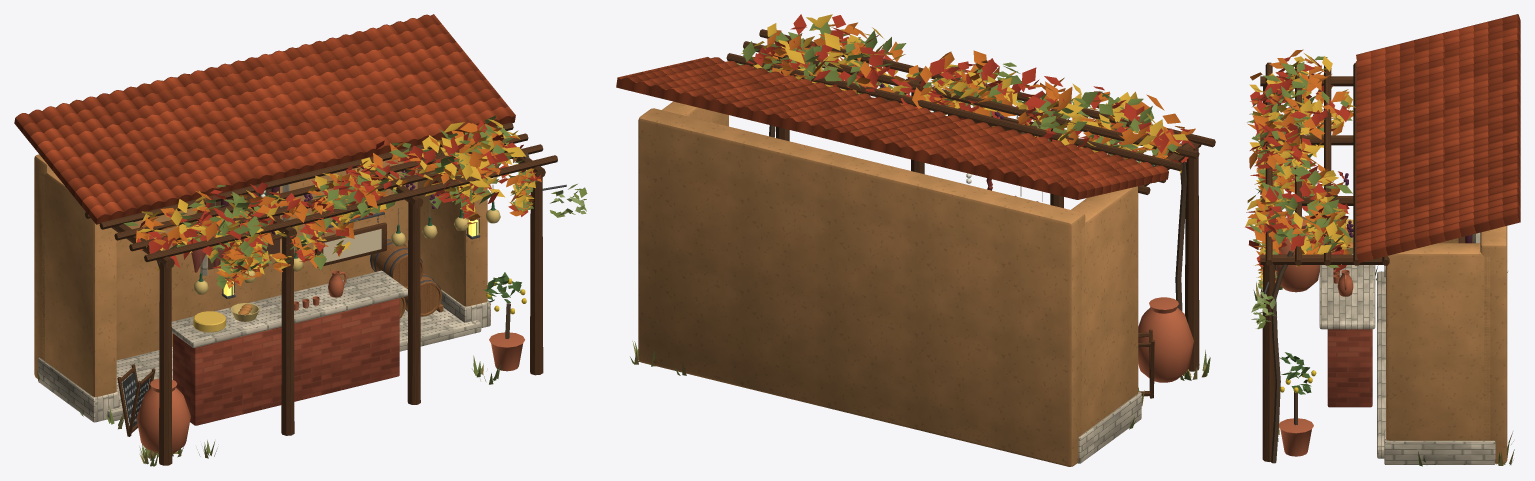
Rendered from tavern-osteria.glb.
The picture shows the model from 3 angles, left to right: view 1: azimuth 30°, elevation 25°; view 2: azimuth 150°, elevation 25°; view 3: azimuth 270°, elevation 25°; orthographic projection. The views are drawn at different scales.
Visible parts, largest first — view 1: tavern_osteria, sign_face; view 2: tavern_osteria; view 3: tavern_osteria.
Boxes of the visible parts, x1,y1,x2,y2 form: tavern_osteria: (14,14,587,466); sign_face: (323,229,381,262); tavern_osteria: (616,14,1215,466); tavern_osteria: (1245,14,1520,466).
Size of the model in its own units: 9 by 5.12 by 4.97.
33 materials, 7 textured.
